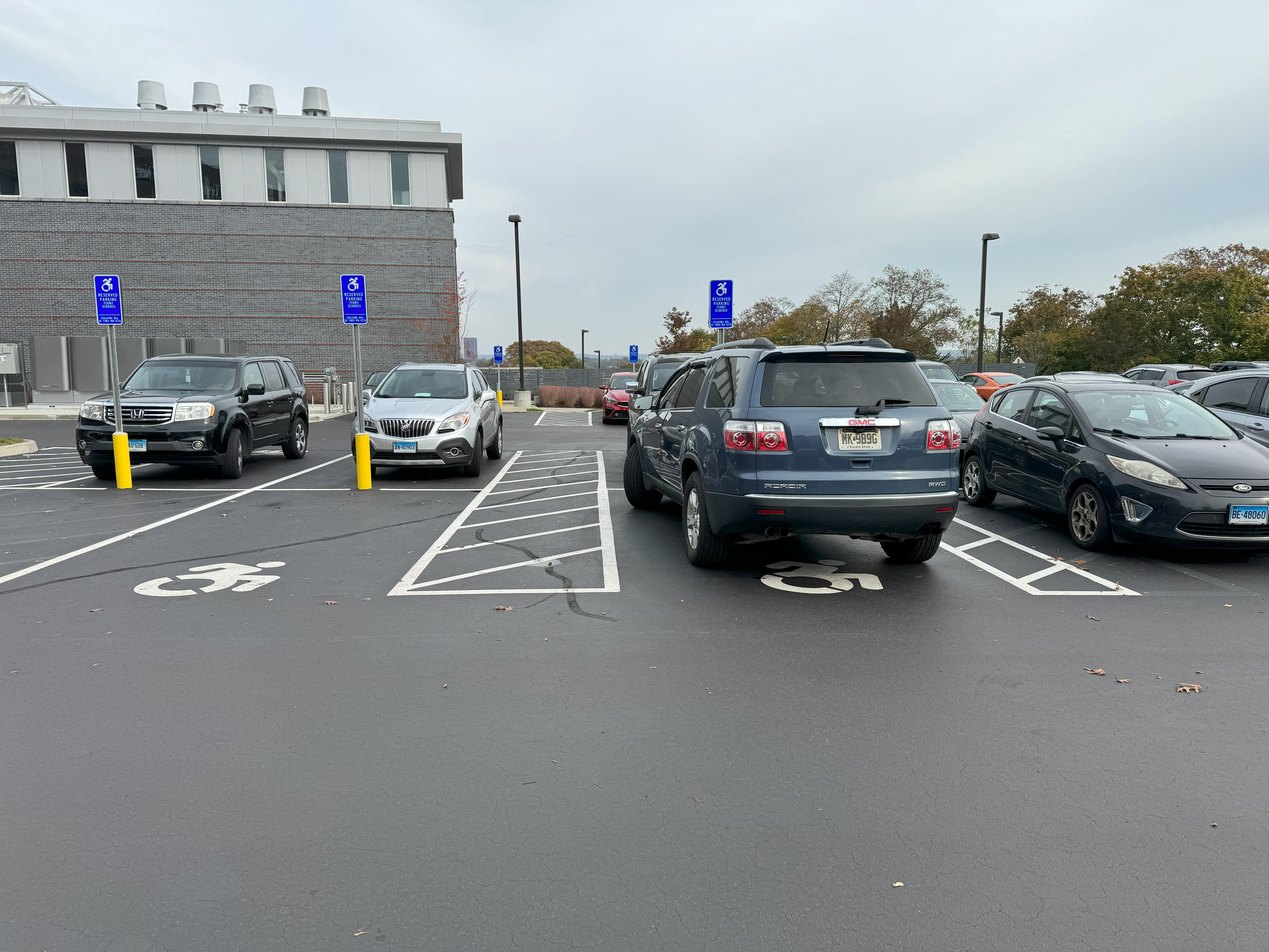empty: (85, 492, 420, 597)
occupied: (600, 334, 987, 590), (1014, 356, 1255, 579), (80, 325, 326, 456), (360, 363, 514, 458), (613, 341, 614, 343)
